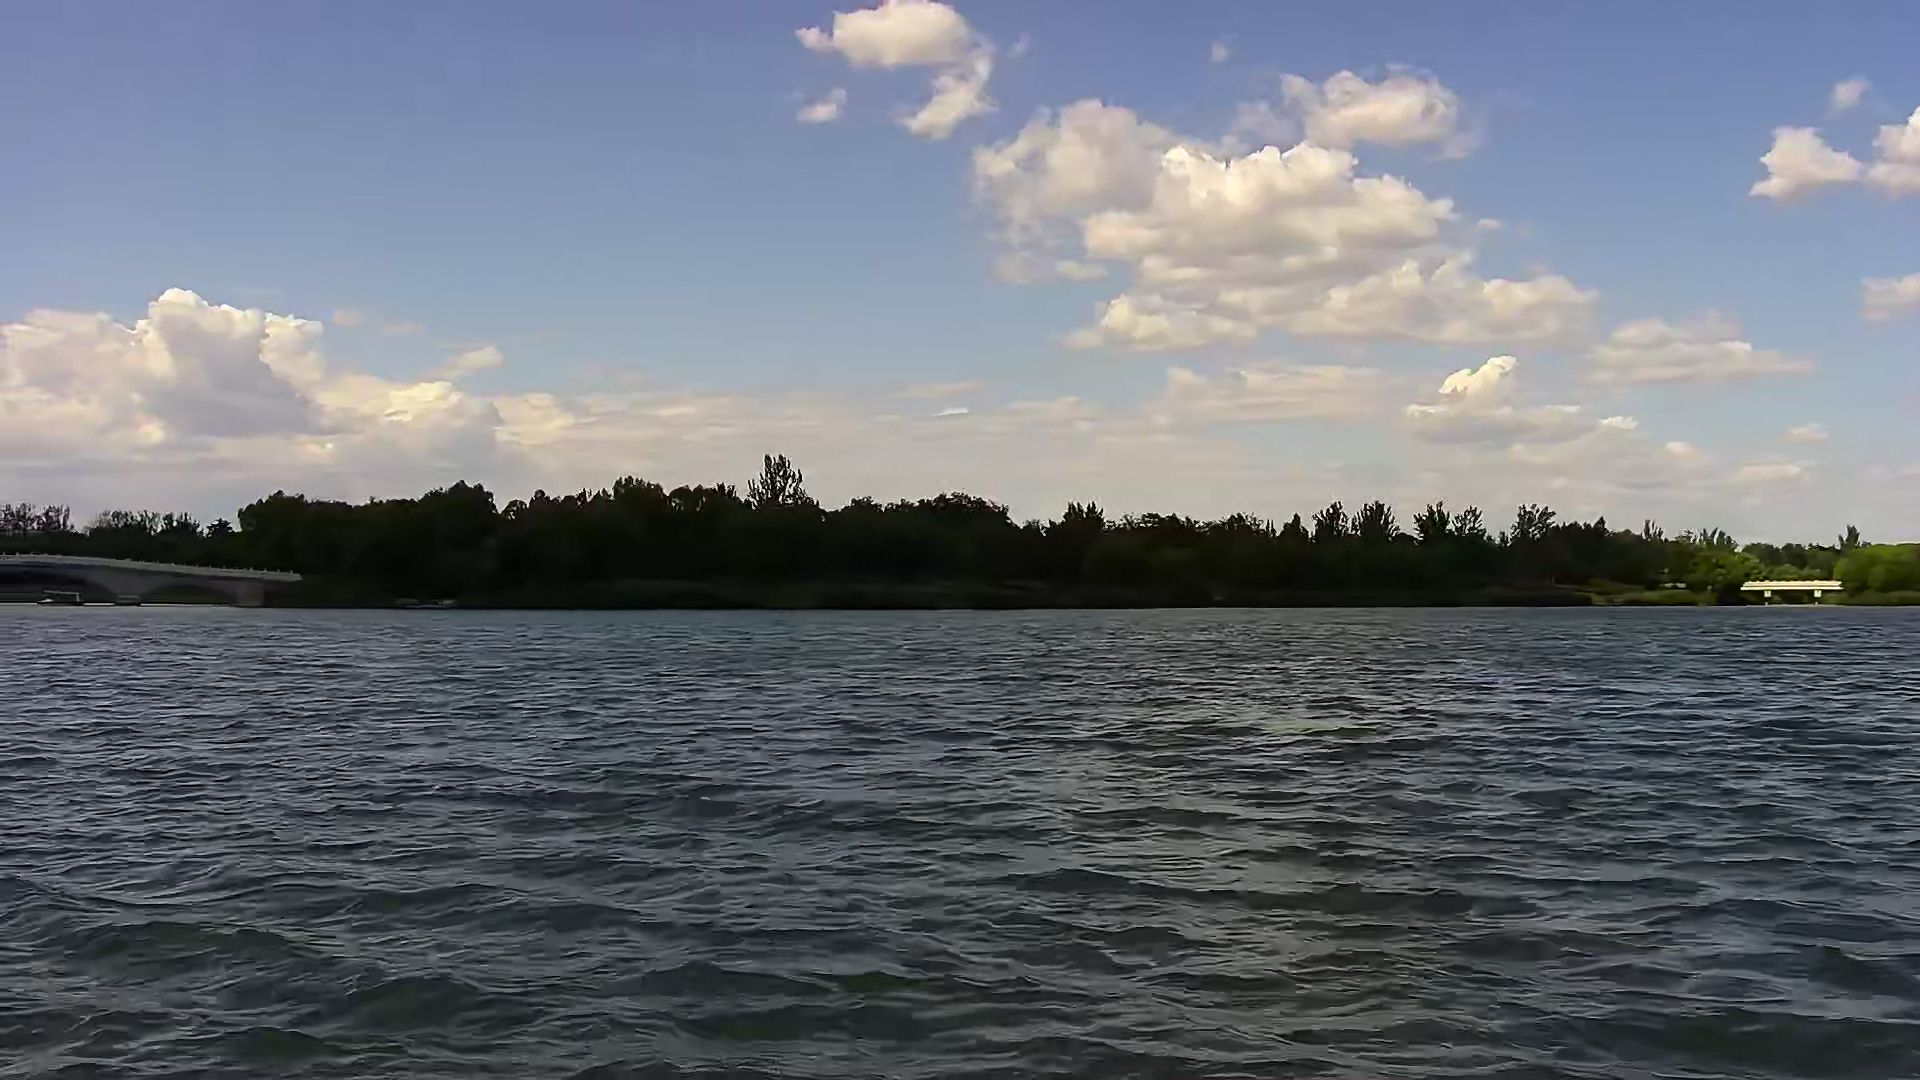bridge: (1, 551, 305, 608), (1738, 578, 1849, 607)
